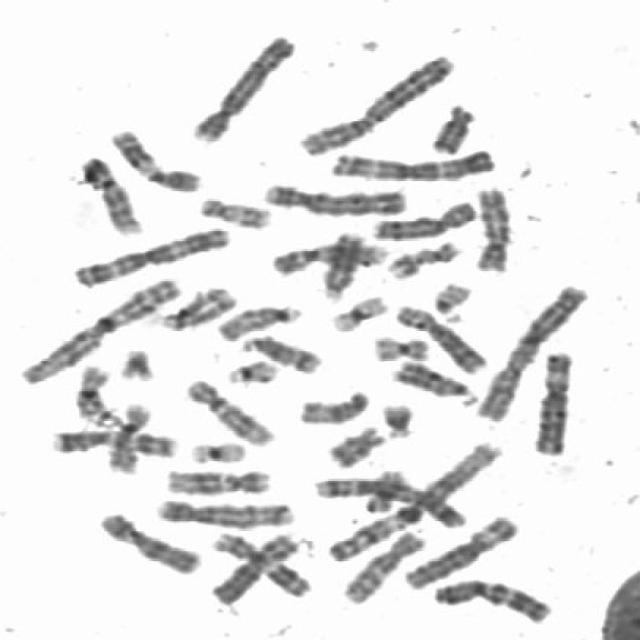A1: (322, 438, 505, 564), (13, 271, 186, 387)
A2: (294, 49, 458, 157), (470, 280, 593, 423)
A3: (66, 220, 234, 289), (327, 146, 498, 182)
B4: (186, 30, 297, 143), (256, 176, 410, 218)
B5: (309, 472, 469, 529), (151, 492, 297, 529)
C10: (338, 526, 429, 606), (467, 180, 519, 274)
C11: (205, 528, 312, 600), (104, 124, 205, 194)
C12: (180, 373, 278, 448), (157, 462, 274, 497)
C6: (398, 509, 523, 590), (524, 347, 578, 459)
C7: (426, 572, 558, 626), (48, 425, 179, 459)
C8: (388, 298, 494, 376), (366, 197, 482, 241)
C9: (70, 151, 145, 238), (265, 235, 391, 278)
D13: (385, 356, 479, 404), (315, 228, 366, 301)
D14: (152, 284, 242, 332), (235, 330, 324, 376)
D15: (212, 302, 302, 342), (293, 384, 372, 426)
E16: (106, 401, 152, 477), (70, 360, 116, 421)
E17: (384, 238, 464, 280), (192, 190, 274, 230)
E18: (319, 421, 387, 469), (423, 99, 479, 155)
F19: (325, 291, 391, 333), (185, 436, 249, 466)
F20: (359, 464, 410, 516), (368, 331, 433, 363)
G21: (111, 342, 158, 383), (375, 399, 416, 440)
G22: (428, 278, 474, 321), (221, 356, 280, 386)
X: (92, 506, 205, 576), (204, 529, 303, 605)
